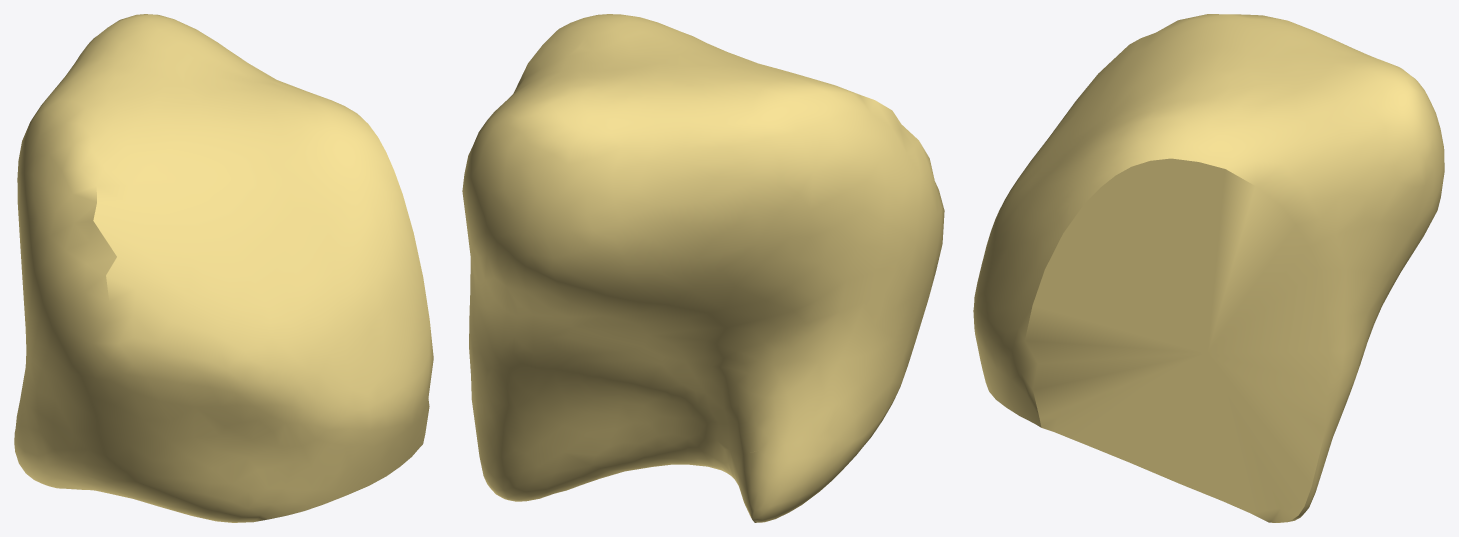
Rendered from fma72438-r_mm2971m.glb.
3 renders of one model, left to right at view 1: azimuth 30°, elevation 25°; view 2: azimuth 150°, elevation 25°; view 3: azimuth 270°, elevation 25°, orthographic. The views are drawn at different scales.
Visible parts, largest first — view 1: FMA72438-R_MM2971M; view 2: FMA72438-R_MM2971M; view 3: FMA72438-R_MM2971M.
Boxes of the visible parts, x1,y1,x2,y2 form: FMA72438-R_MM2971M: (14,14,433,522); FMA72438-R_MM2971M: (462,14,944,522); FMA72438-R_MM2971M: (973,14,1444,522).
Bounding box in the file's own units: 0.00555 × 0.007 × 0.00727.
